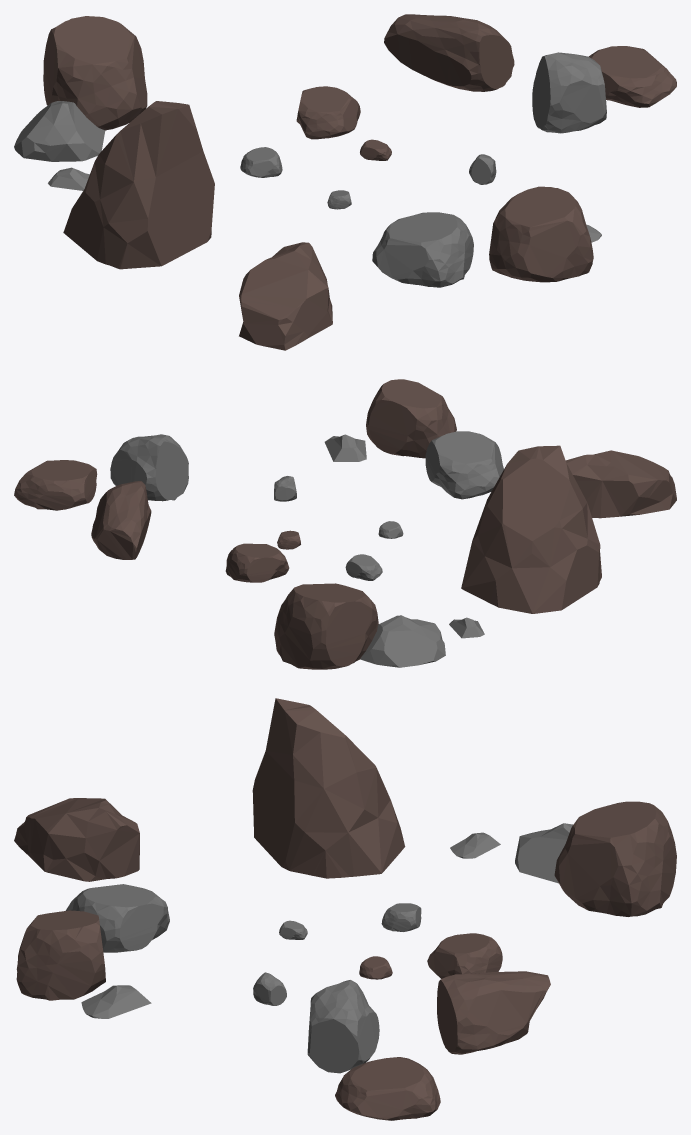
File: Stone blockage cleared.fbx
3 renders of one model, top to bottom at view 1: azimuth 30°, elevation 25°; view 2: azimuth 150°, elevation 25°; view 3: azimuth 270°, elevation 25°, orthographic. The views are drawn at different scales.
Parts seen in each view (by area): view 1: Stone blockage cleared; view 2: Stone blockage cleared; view 3: Stone blockage cleared.
Boxes of the visible parts, <box> form: Stone blockage cleared: <box>14,14,676,350</box>; Stone blockage cleared: <box>14,379,676,669</box>; Stone blockage cleared: <box>14,698,676,1120</box>.
Size of the model in its own units: 804 by 178 by 737.
